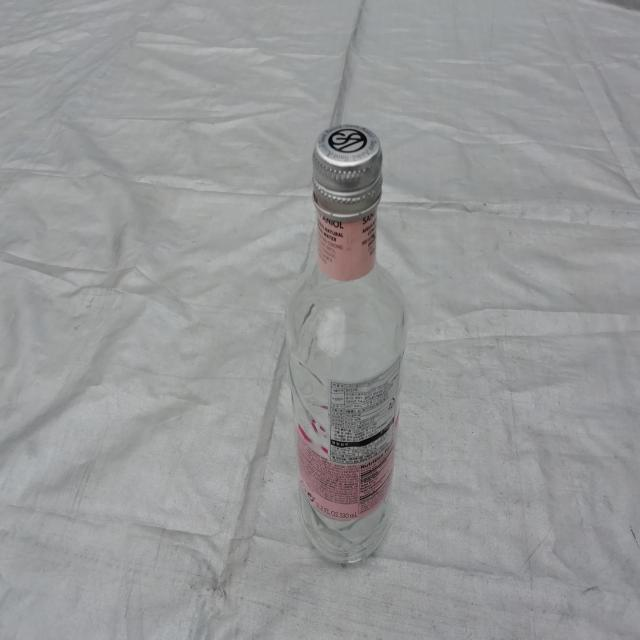glass: (286, 123, 407, 563)
